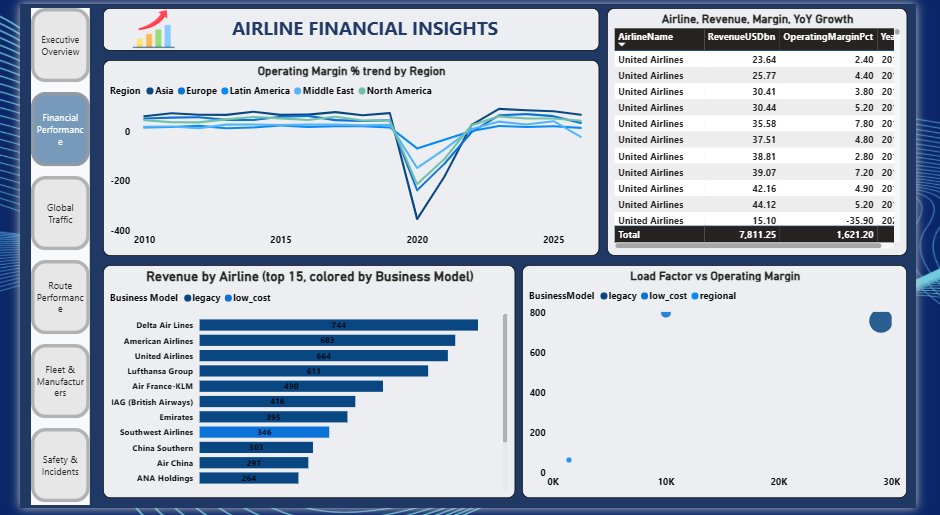

Layout of this report page (visuals, bound fields, positions):
{"tool":"powerbi","page":{"name":"Financial Performance","canvas":[1280,720],"ordinal":1},"visuals":[{"type":"barChart","title":"Revenue by Airline (top 15, colored by Business Model)","fields":{"Category":["Fact_Financials3.AirlineName"],"Series":["Fact_Financials3.BusinessModel"],"Y":["Sum(Fact_Financials3.RevenueUSDbn)"]},"box":[118.6,372.9,588.6,332.9],"z":0},{"type":"lineChart","title":"Operating Margin % trend by Region","fields":{"Category":["Fact_Financials3.Year"],"Series":["Fact_Financials3.Region"],"Y":["Sum(Fact_Financials3.OperatingMarginPct)"]},"box":[118.6,80,708.6,280],"z":1000},{"type":"scatterChart","title":"Load Factor vs Operating Margin","fields":{"Series":["Fact_Financials3.BusinessModel"],"Size":["Sum(Fact_Financials3.FleetSizeEst)"],"X":["Sum(Fact_Financials3.LoadFactorPct)"],"Y":["Sum(Fact_Financials3.OperatingMarginPct)"]},"box":[717.1,372.9,550,332.9],"z":2000},{"type":"tableEx","title":"Airline, Revenue, Margin, YoY Growth","fields":{"Values":["Fact_Financials3.AirlineName","Sum(Fact_Financials3.RevenueUSDbn)","Sum(Fact_Financials3.OperatingMarginPct)","Fact_Financials3.Year"]},"box":[838.6,5.7,428.6,354.3],"z":3000},{"type":"textbox","box":[118.6,5.7,708.6,61.4],"z":4000},{"type":"image","box":[130,5.7,122.9,60],"z":5000},{"type":"pageNavigator","box":[15.7,5.7,84.3,710],"z":5001}]}

Visuals, with their boxes in screenshot pixels (x1, y1, x2, y2), scaled from the page's 1280x720 canvas onto the 940x515 screenshot:
"Revenue by Airline (top 15, colored by Business Model)" barChart: detection(87, 267, 519, 505)
"Operating Margin % trend by Region" lineChart: detection(87, 57, 607, 258)
"Load Factor vs Operating Margin" scatterChart: detection(527, 267, 931, 505)
"Airline, Revenue, Margin, YoY Growth" tableEx: detection(616, 4, 931, 258)
textbox: detection(87, 4, 607, 48)
image: detection(95, 4, 186, 47)
pageNavigator: detection(12, 4, 73, 512)
